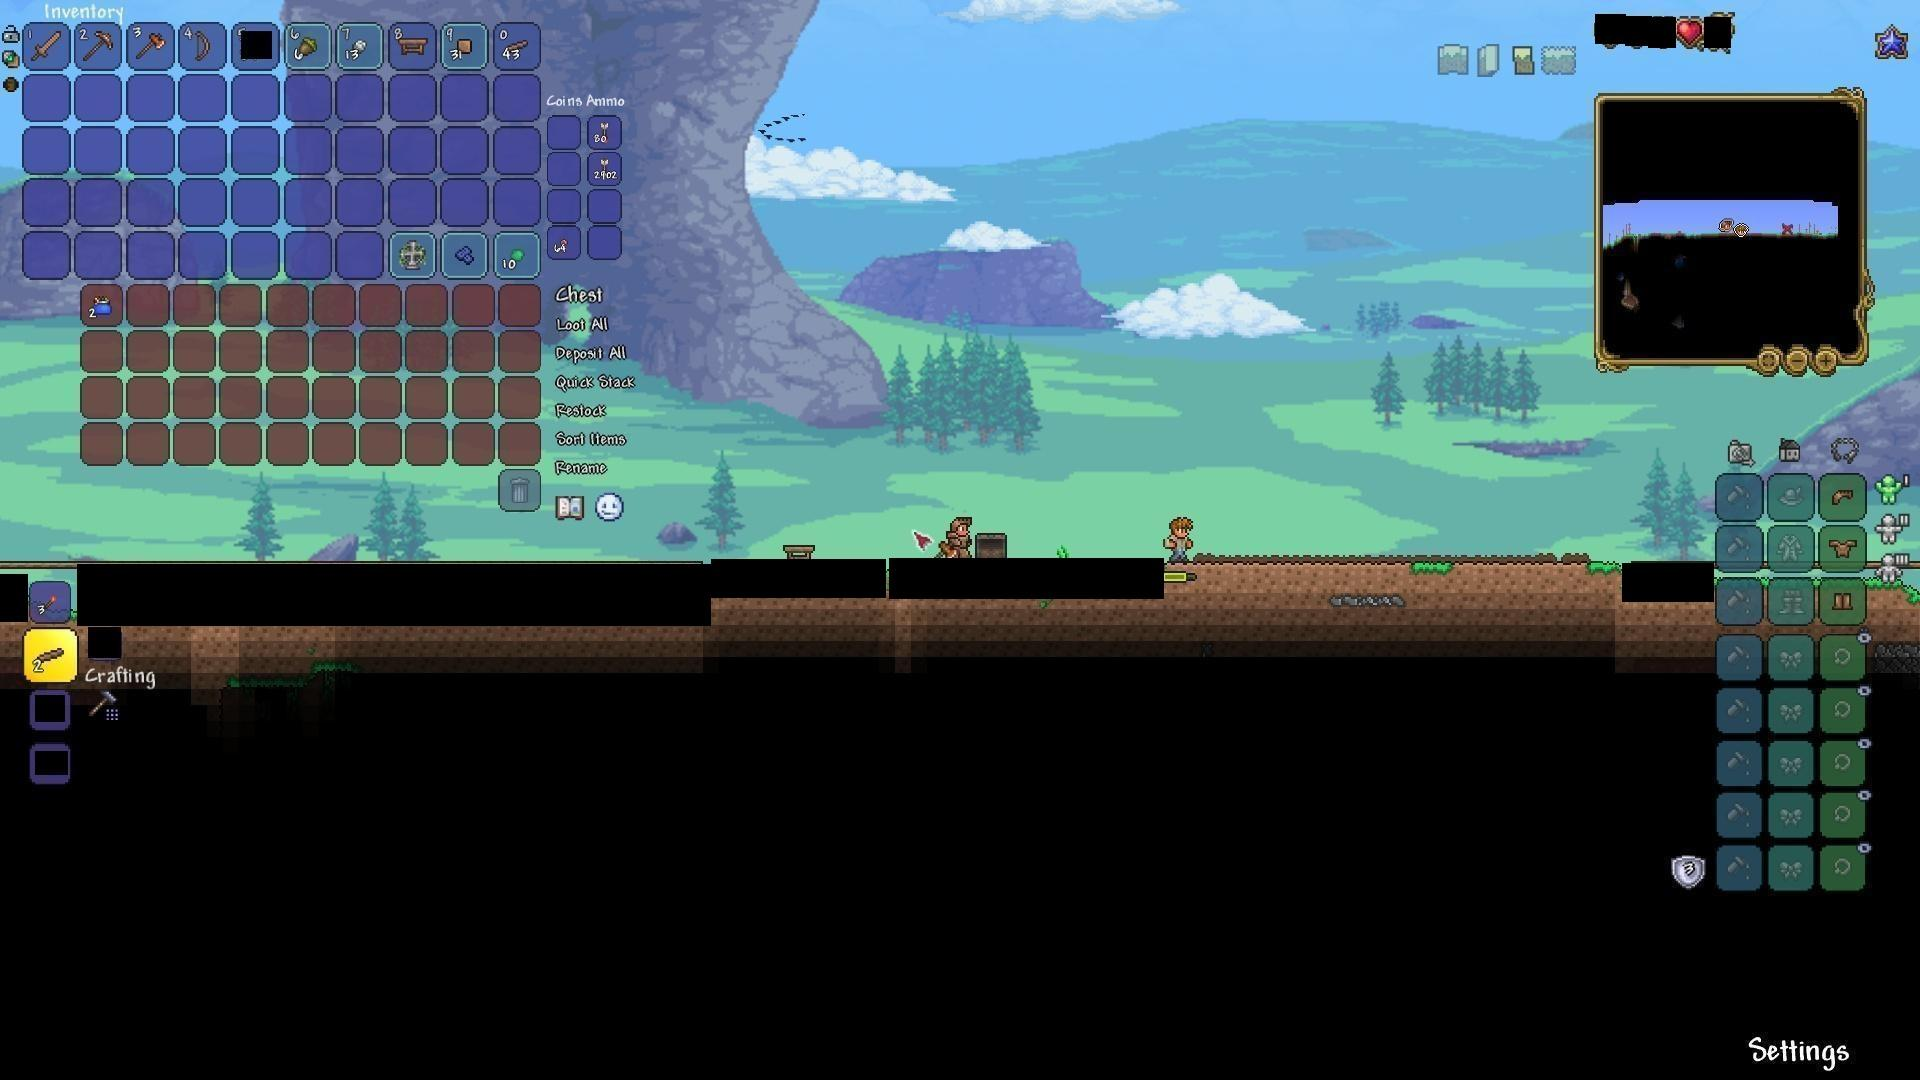breastplate: (1829, 537, 1859, 558)
dirt: (1404, 556, 1458, 592), (1581, 549, 1625, 584)
heart: (1676, 16, 1702, 47)
helmet: (1826, 483, 1858, 512)
legs: (1832, 587, 1855, 616)
workbench: (392, 33, 429, 58), (781, 541, 818, 564)
